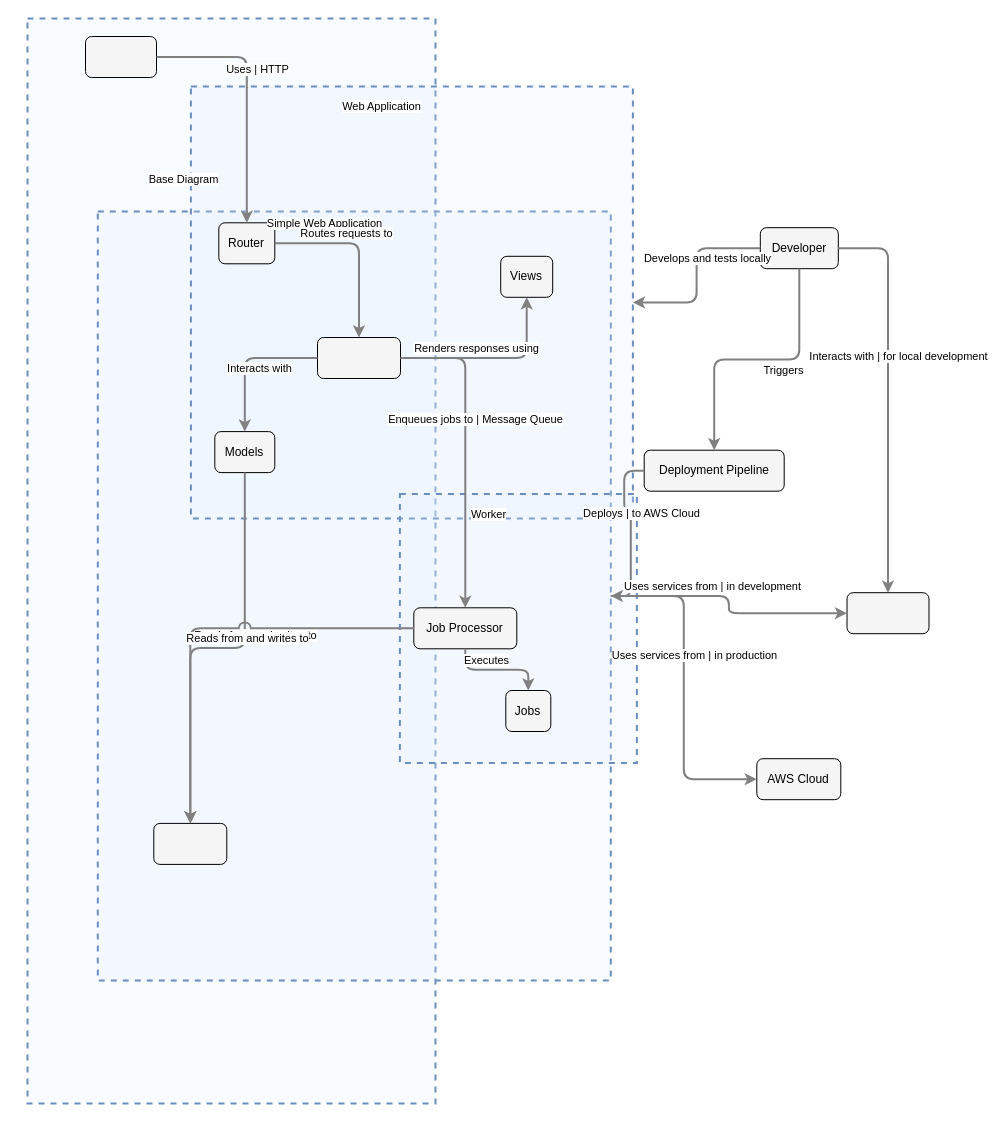
Some shapes in this 1004 by 1121 pixel diagram are drawn without their labels. The box of each missing label's shape, as (x1, y1, x2, y2) in pixels:
Controllers: (316, 336, 400, 378)
Database: (153, 822, 227, 864)
End User: (84, 36, 156, 78)
LocalStack: (846, 592, 929, 634)
